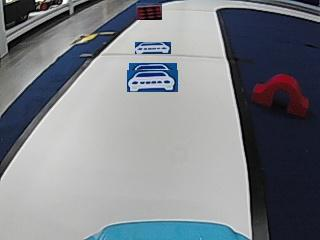bridge: (254, 72, 308, 113)
